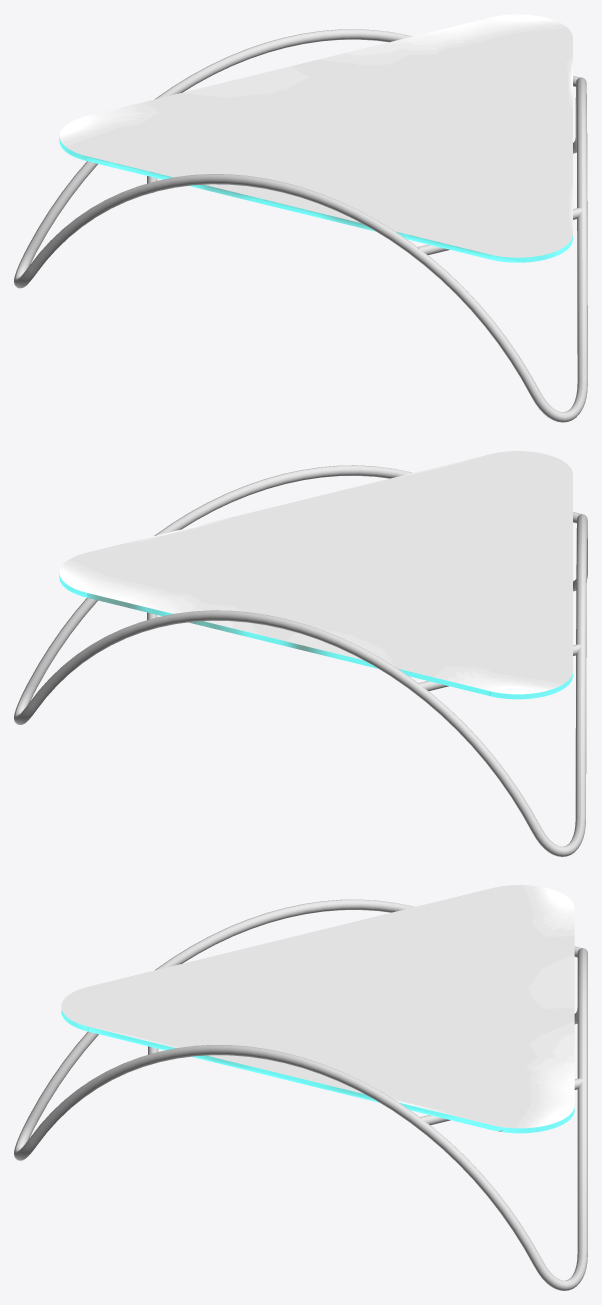
Rendered from DeepWave1_transmission.glb.
3 renders of one model, top to bottom at view 1: azimuth 30°, elevation 25°; view 2: azimuth 150°, elevation 25°; view 3: azimuth 270°, elevation 25°, orthographic.
Parts seen in each view (by area): view 1: RayCoffeeTable_Top.001, RayCoffeeTable_Leg, RayCoffeeTable_Top; view 2: RayCoffeeTable_Top.001, RayCoffeeTable_Leg, RayCoffeeTable_Top; view 3: RayCoffeeTable_Top.001, RayCoffeeTable_Leg, RayCoffeeTable_Top.
Part boxes in pixels (x1,y1,x2,y2): RayCoffeeTable_Top.001: (59, 14, 572, 262); RayCoffeeTable_Leg: (14, 29, 587, 422); RayCoffeeTable_Top: (59, 136, 572, 262); RayCoffeeTable_Top.001: (59, 451, 572, 698); RayCoffeeTable_Leg: (14, 465, 587, 856); RayCoffeeTable_Top: (59, 573, 572, 699); RayCoffeeTable_Top.001: (61, 885, 574, 1132); RayCoffeeTable_Leg: (14, 899, 587, 1290); RayCoffeeTable_Top: (61, 1009, 574, 1133).
Bounding box in the file's own units: 1.18 × 0.3541 × 1.04.
3 materials, 2 textured.
